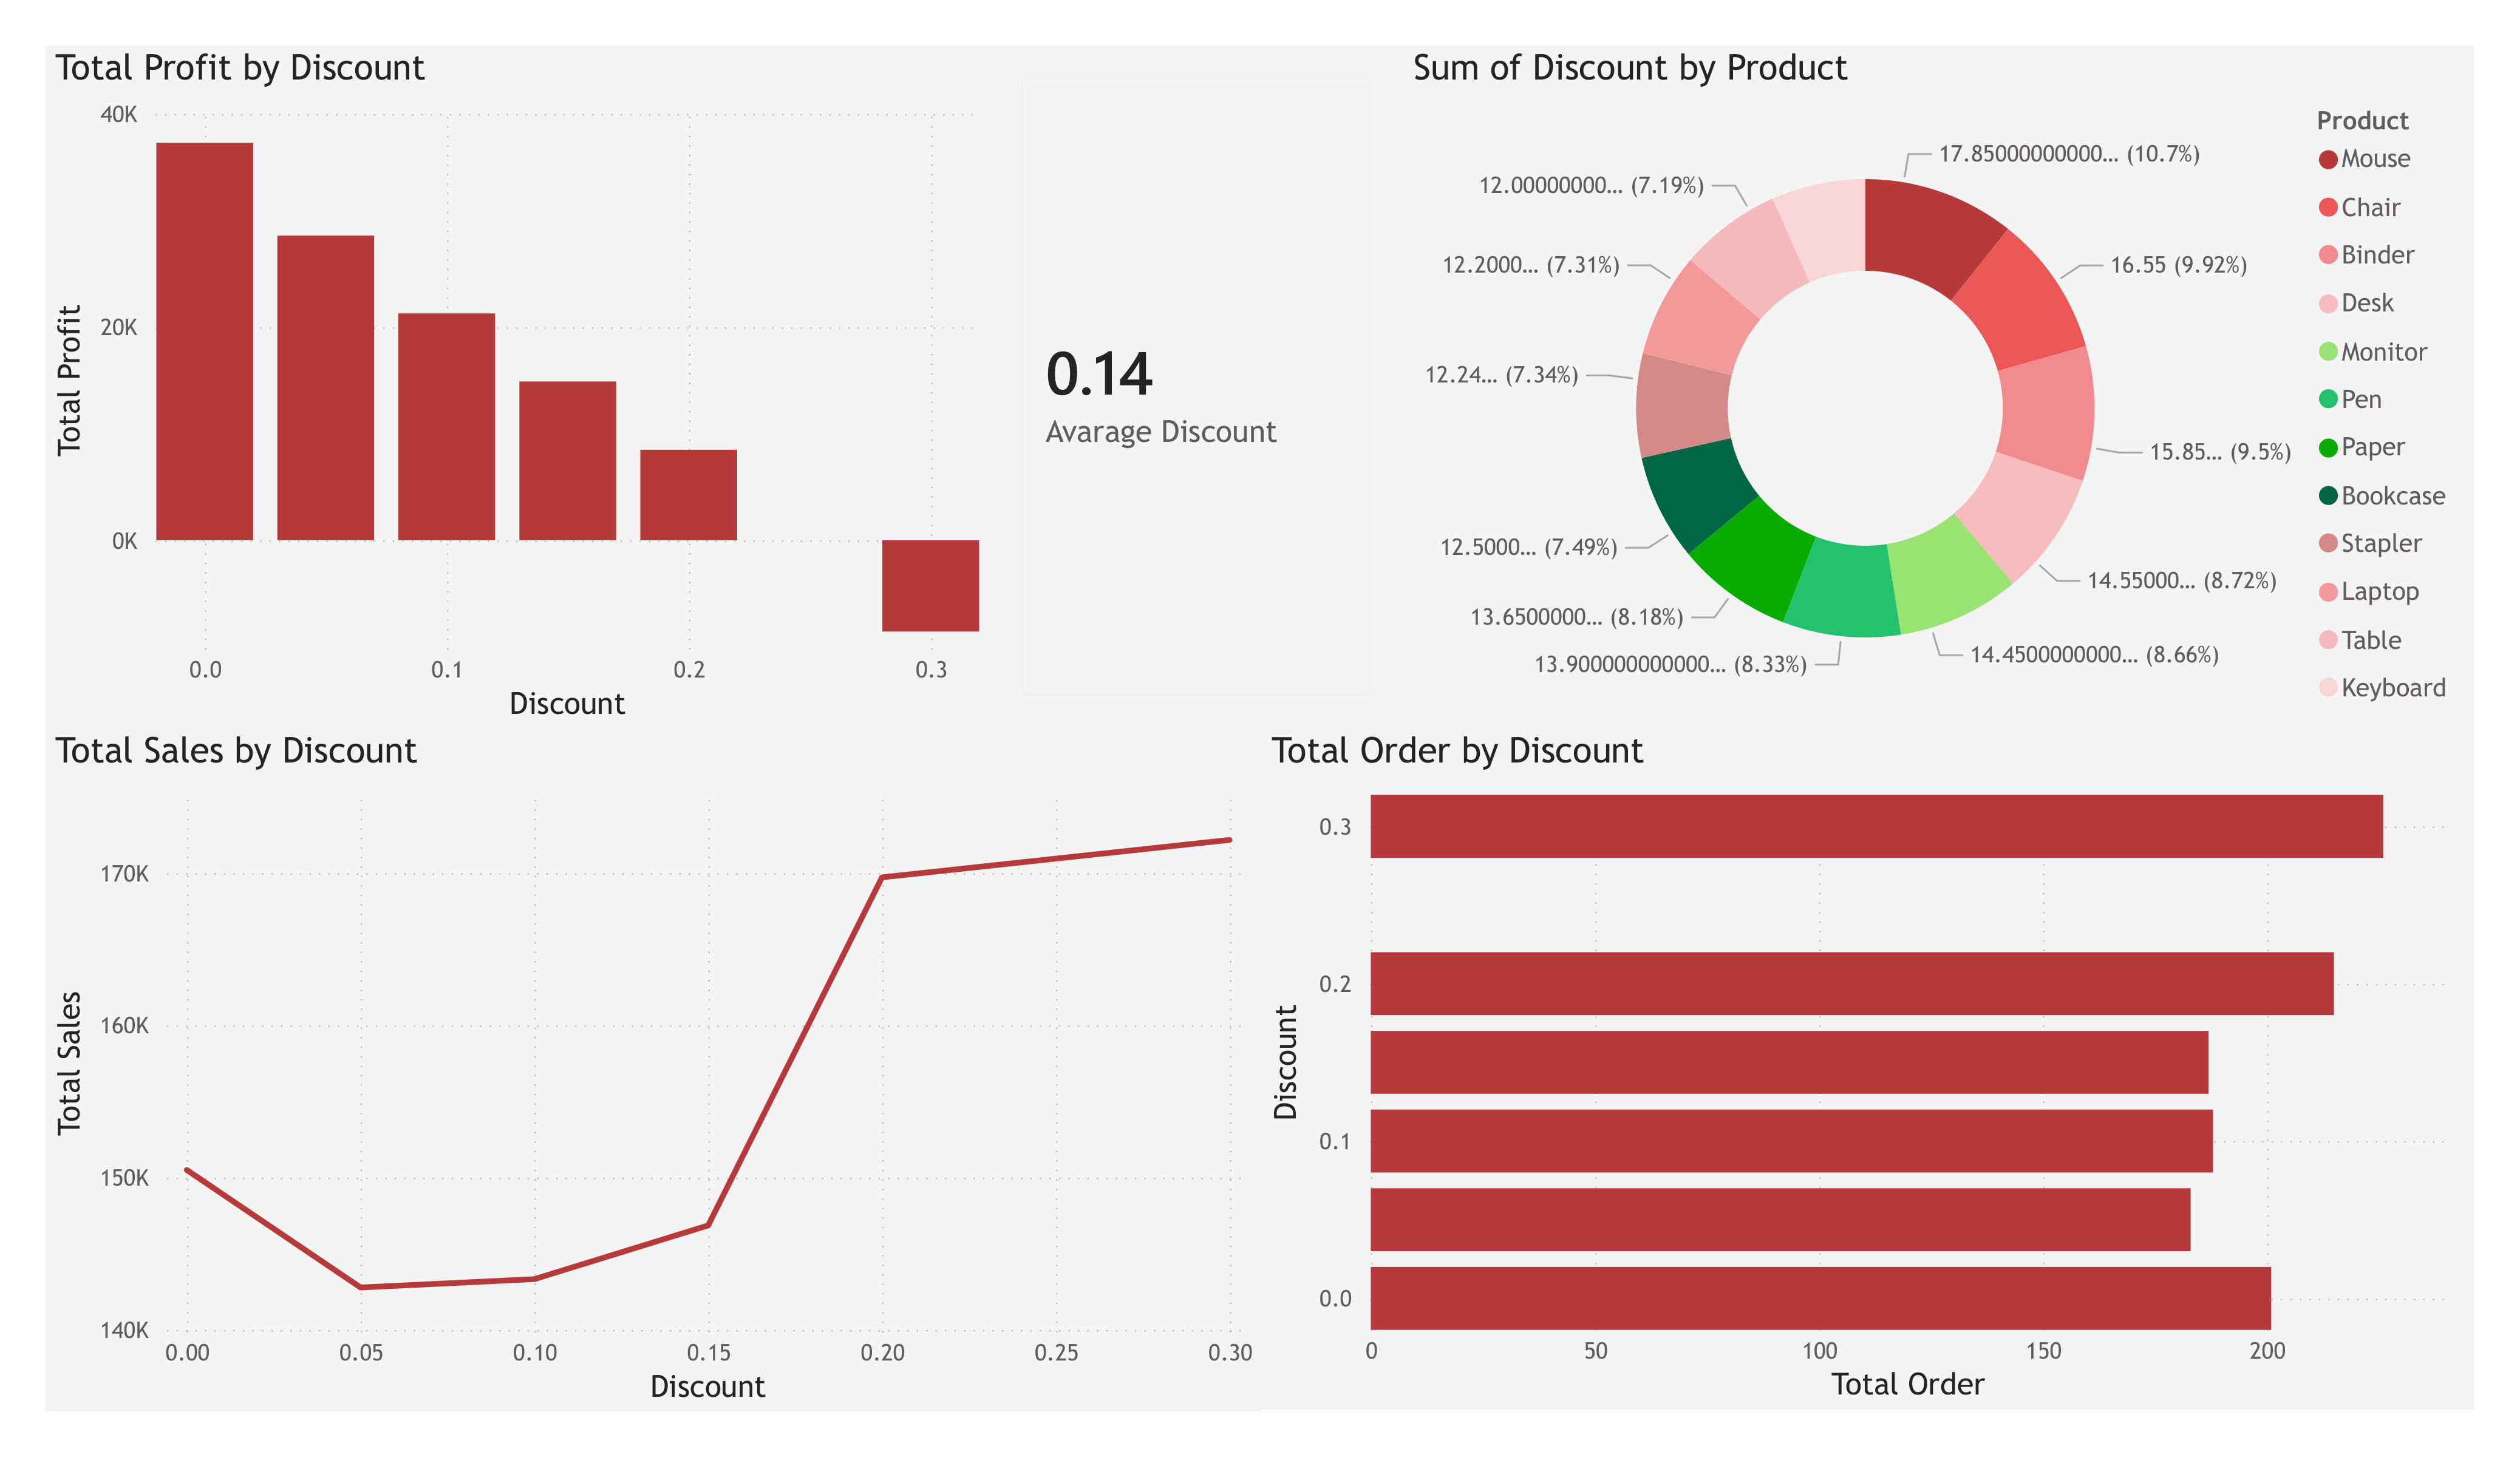

This screenshot's page, from the dashboard's own definition file:
{"tool":"powerbi","page":{"name":"Discount Analysis","canvas":[1280,720],"ordinal":5},"visuals":[{"type":"lineChart","fields":{"Category":["Sales_Table1.Discount"],"Y":["Measures (2).Total Sales"]},"box":[0,360.5,640.7,359.3],"z":0},{"type":"clusteredColumnChart","fields":{"Y":["Measures (2).Total Profit"],"Category":["Sales_Table1.Discount"]},"box":[0,0,496.5,360.5],"z":1000},{"type":"donutChart","fields":{"Y":["Sum(Sales_Table1.Discount)"],"Category":["Sales_Table1.Product"]},"box":[716.3,0,564,360.5],"z":2000},{"type":"clusteredBarChart","fields":{"Category":["Sales_Table1.Discount"],"Y":["Measures (2).Total Order"]},"box":[641,360,639,359],"z":3000},{"type":"cardVisual","fields":{"Data":["Measures (2).Avarage Discount"]},"box":[496.5,0,219.8,360.5],"z":3001}]}

Visuals, with their boxes on the page's 1280x720 design canvas (x1, y1, x2, y2). These are canvas units, not pixel positions in the 2520x1457 screenshot, which may show the page scaled, cropped or inside an application window:
lineChart - Sales_Table1.Discount x Measures (2).Total Sales: pyautogui.locateOnScreen(0, 360, 641, 720)
clusteredColumnChart - Measures (2).Total Profit x Sales_Table1.Discount: pyautogui.locateOnScreen(0, 0, 496, 360)
donutChart - Sum(Sales_Table1.Discount) x Sales_Table1.Product: pyautogui.locateOnScreen(716, 0, 1280, 360)
clusteredBarChart - Sales_Table1.Discount x Measures (2).Total Order: pyautogui.locateOnScreen(641, 360, 1280, 719)
cardVisual - Measures (2).Avarage Discount: pyautogui.locateOnScreen(496, 0, 716, 360)
